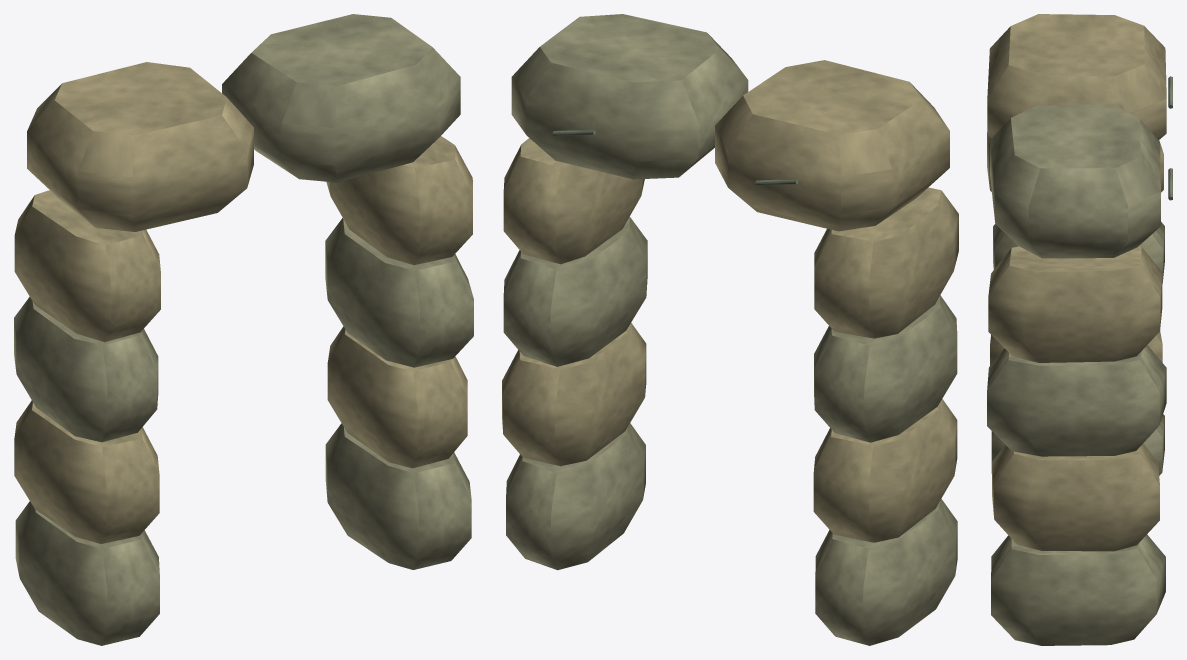
File: stone-doorway-0.fbx
3 renders of one model, left to right at view 1: azimuth 30°, elevation 25°; view 2: azimuth 150°, elevation 25°; view 3: azimuth 270°, elevation 25°, orthographic. The views are drawn at different scales.
Visible parts, largest first — view 1: stone-doorway-0__Geometry; view 2: stone-doorway-0__Geometry; view 3: stone-doorway-0__Geometry.
Part boxes in pixels (x1,y1,x2,y2): stone-doorway-0__Geometry: [14, 14, 473, 645]; stone-doorway-0__Geometry: [502, 14, 958, 645]; stone-doorway-0__Geometry: [987, 14, 1172, 645].
Size of the model in its own units: 0.9949 by 1.19 by 0.428.
1 material, 1 textured.
